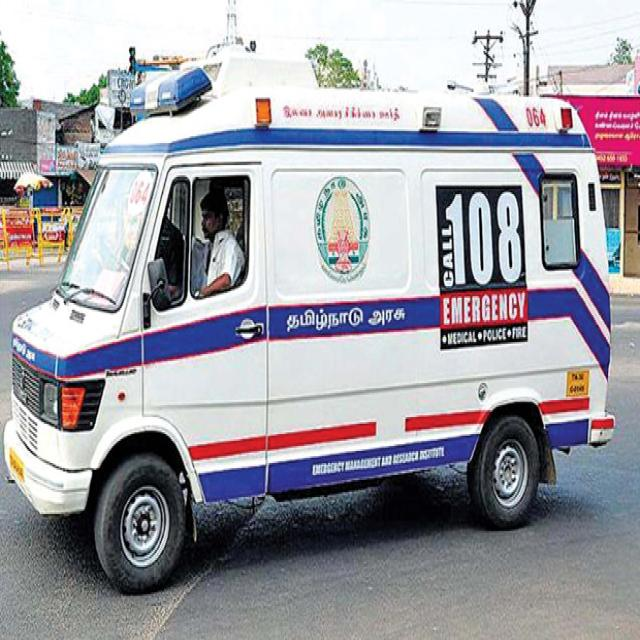ambulance: (5, 52, 613, 592)
